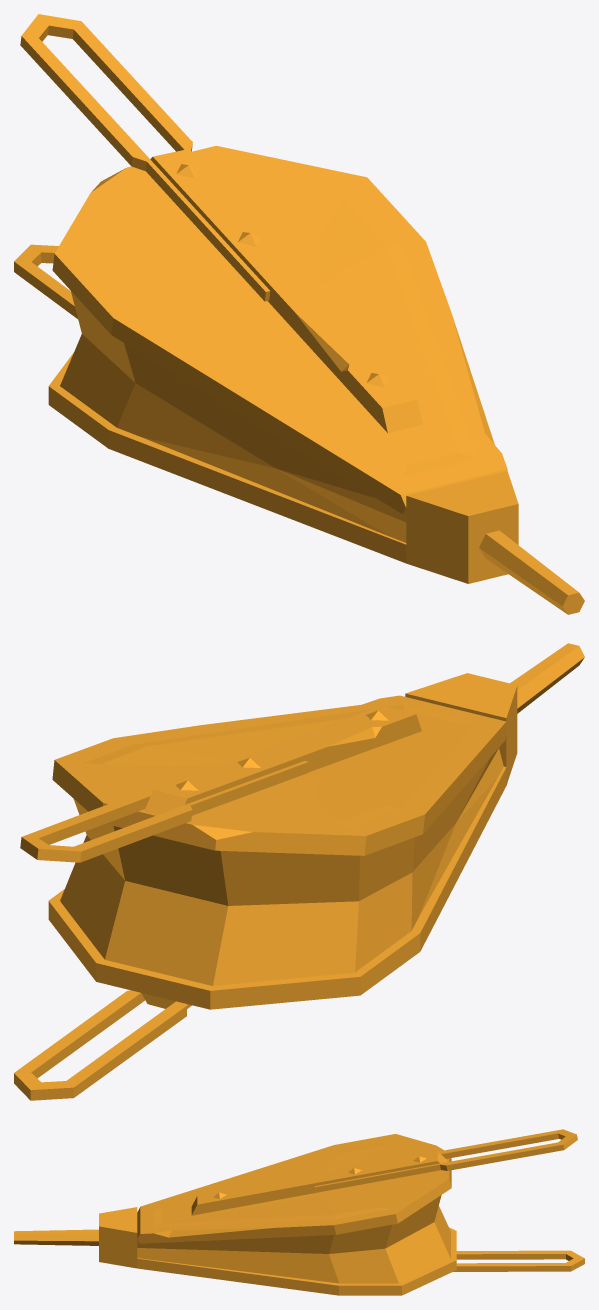
The model's file is SM_Bellows.fbx.
The picture shows the model from 3 angles, top to bottom: view 1: azimuth 30°, elevation 25°; view 2: azimuth 150°, elevation 25°; view 3: azimuth 270°, elevation 25°; orthographic projection. The views are drawn at different scales.
Visible parts, largest first — view 1: bellows; view 2: bellows; view 3: bellows.
Part boxes in pixels (<box>): bellows: <box>14,14,584,614</box>; bellows: <box>14,643,584,1100</box>; bellows: <box>14,1129,584,1295</box>.
Size of the model in its own units: 0.3478 by 0.2761 by 1.05.
